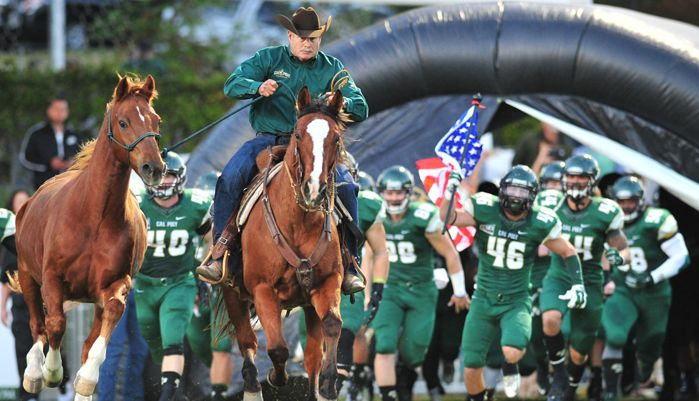Horse: (17, 75, 165, 386), (227, 99, 355, 392)
Person: (231, 18, 380, 194), (371, 164, 453, 382), (139, 164, 228, 362), (612, 184, 689, 395), (471, 174, 543, 383), (554, 156, 615, 365), (333, 191, 387, 379), (27, 89, 87, 168), (531, 154, 561, 192)
